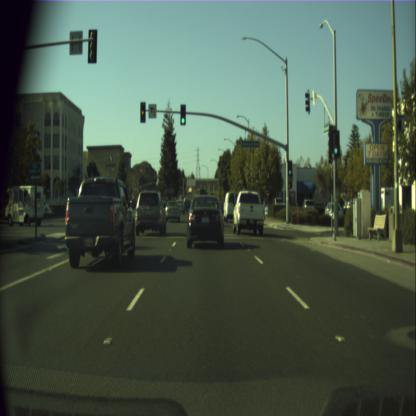Green: (332, 130, 339, 157), (180, 104, 186, 125), (288, 160, 292, 175)
RedLeft: (140, 100, 146, 122)
